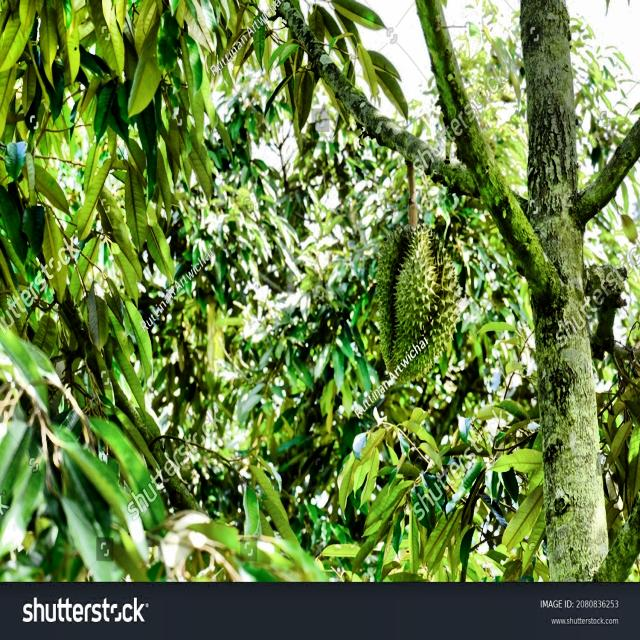arvore: (501, 0, 637, 576)
